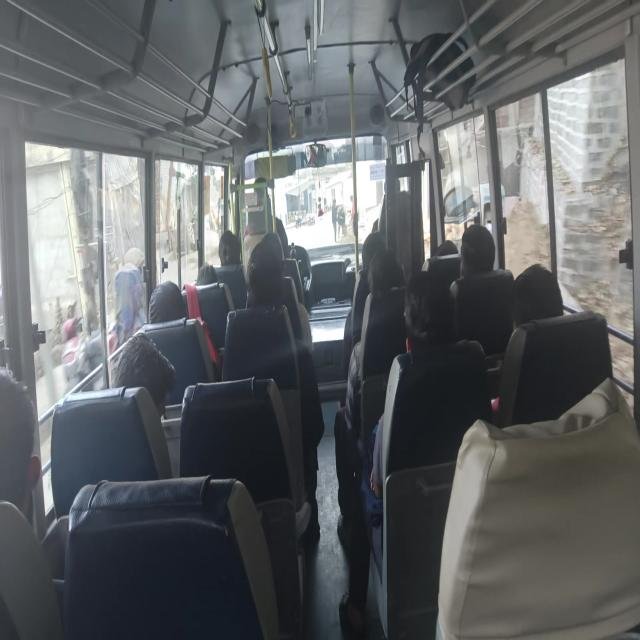person: (338, 270, 492, 636), (334, 249, 408, 634), (243, 231, 324, 541), (0, 366, 68, 580), (491, 263, 564, 411), (76, 262, 147, 382), (449, 223, 514, 353), (0, 366, 42, 522), (342, 231, 386, 377), (112, 332, 176, 421), (108, 262, 147, 350), (512, 262, 564, 328), (459, 223, 495, 276), (148, 280, 187, 323), (218, 230, 241, 266), (121, 246, 145, 270), (195, 263, 218, 285), (331, 198, 338, 242)
